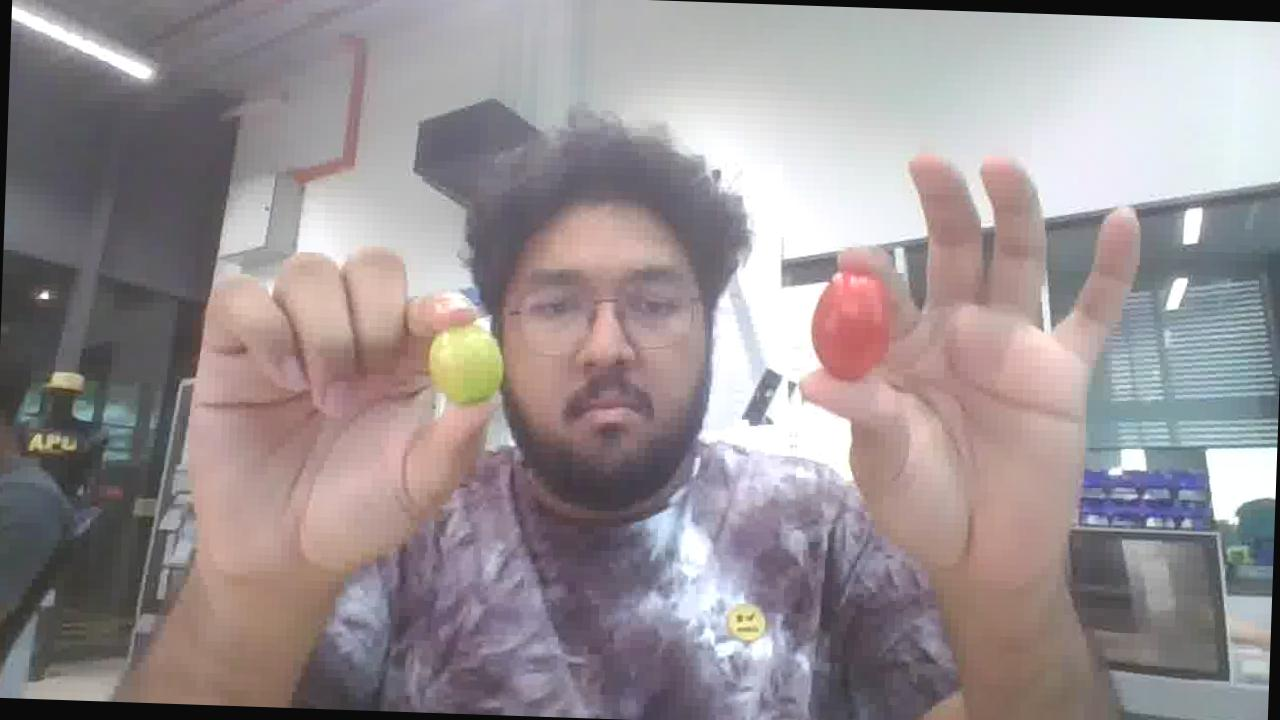green_cherry_tomato: (428, 324, 504, 404)
red_cherry_tomato: (812, 271, 891, 380)
